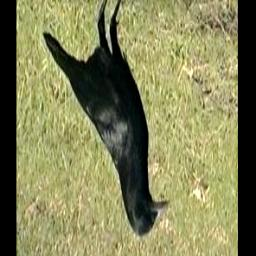Crow: (42, 0, 171, 238)
